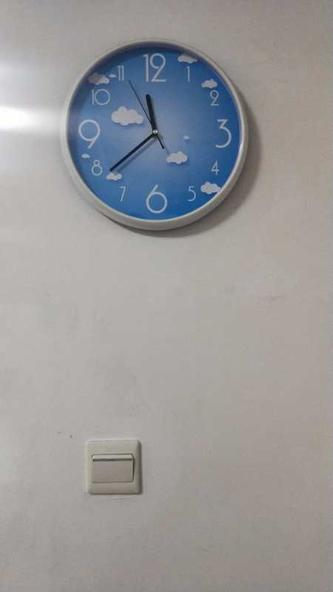switch: (88, 454, 151, 481)
